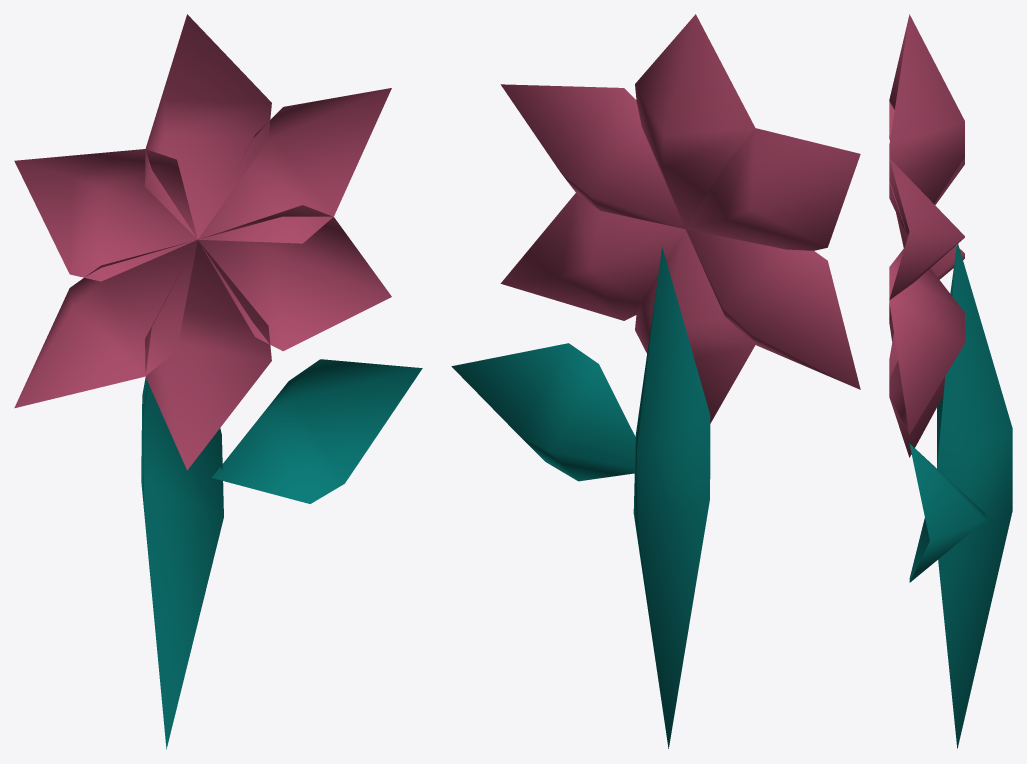
The model's file is origami_fleur.fbx.
3 renders of one model, left to right at view 1: azimuth 30°, elevation 25°; view 2: azimuth 150°, elevation 25°; view 3: azimuth 270°, elevation 25°, orthographic. The views are drawn at different scales.
Parts seen in each view (by area): view 1: fleur8, fleur7, fleur2, fleur3, fleur1, fleur6, fleur5, fleur4; view 2: fleur7, fleur8, fleur3, fleur6, fleur2, fleur1, fleur5, fleur4; view 3: fleur7, fleur1, fleur5, fleur8, fleur6, fleur4, fleur3, fleur2.
Part boxes in pixels (bbox=[...]): fleur8: bbox=[212, 359, 422, 503]; fleur7: bbox=[141, 377, 223, 749]; fleur2: bbox=[14, 149, 197, 281]; fleur3: bbox=[14, 240, 197, 408]; fleur1: bbox=[145, 14, 271, 239]; fleur6: bbox=[198, 88, 391, 243]; fleur5: bbox=[198, 205, 391, 351]; fleur4: bbox=[145, 240, 271, 470]; fleur7: bbox=[633, 247, 710, 748]; fleur8: bbox=[451, 343, 635, 481]; fleur3: bbox=[686, 229, 860, 389]; fleur6: bbox=[500, 84, 685, 228]; fleur2: bbox=[686, 128, 860, 250]; fleur1: bbox=[635, 14, 755, 228]; fleur5: bbox=[500, 193, 685, 320]; fleur4: bbox=[635, 229, 755, 423]; fleur7: bbox=[937, 244, 1012, 748]; fleur1: bbox=[889, 14, 964, 235]; fleur5: bbox=[889, 247, 964, 434]; fleur8: bbox=[909, 443, 985, 582]; fleur6: bbox=[889, 158, 964, 304]; fleur4: bbox=[889, 305, 945, 457]; fleur3: bbox=[889, 182, 964, 321]; fleur2: bbox=[889, 101, 964, 236].
Size of the model in its own units: 17.2 by 29.6 by 4.52.
